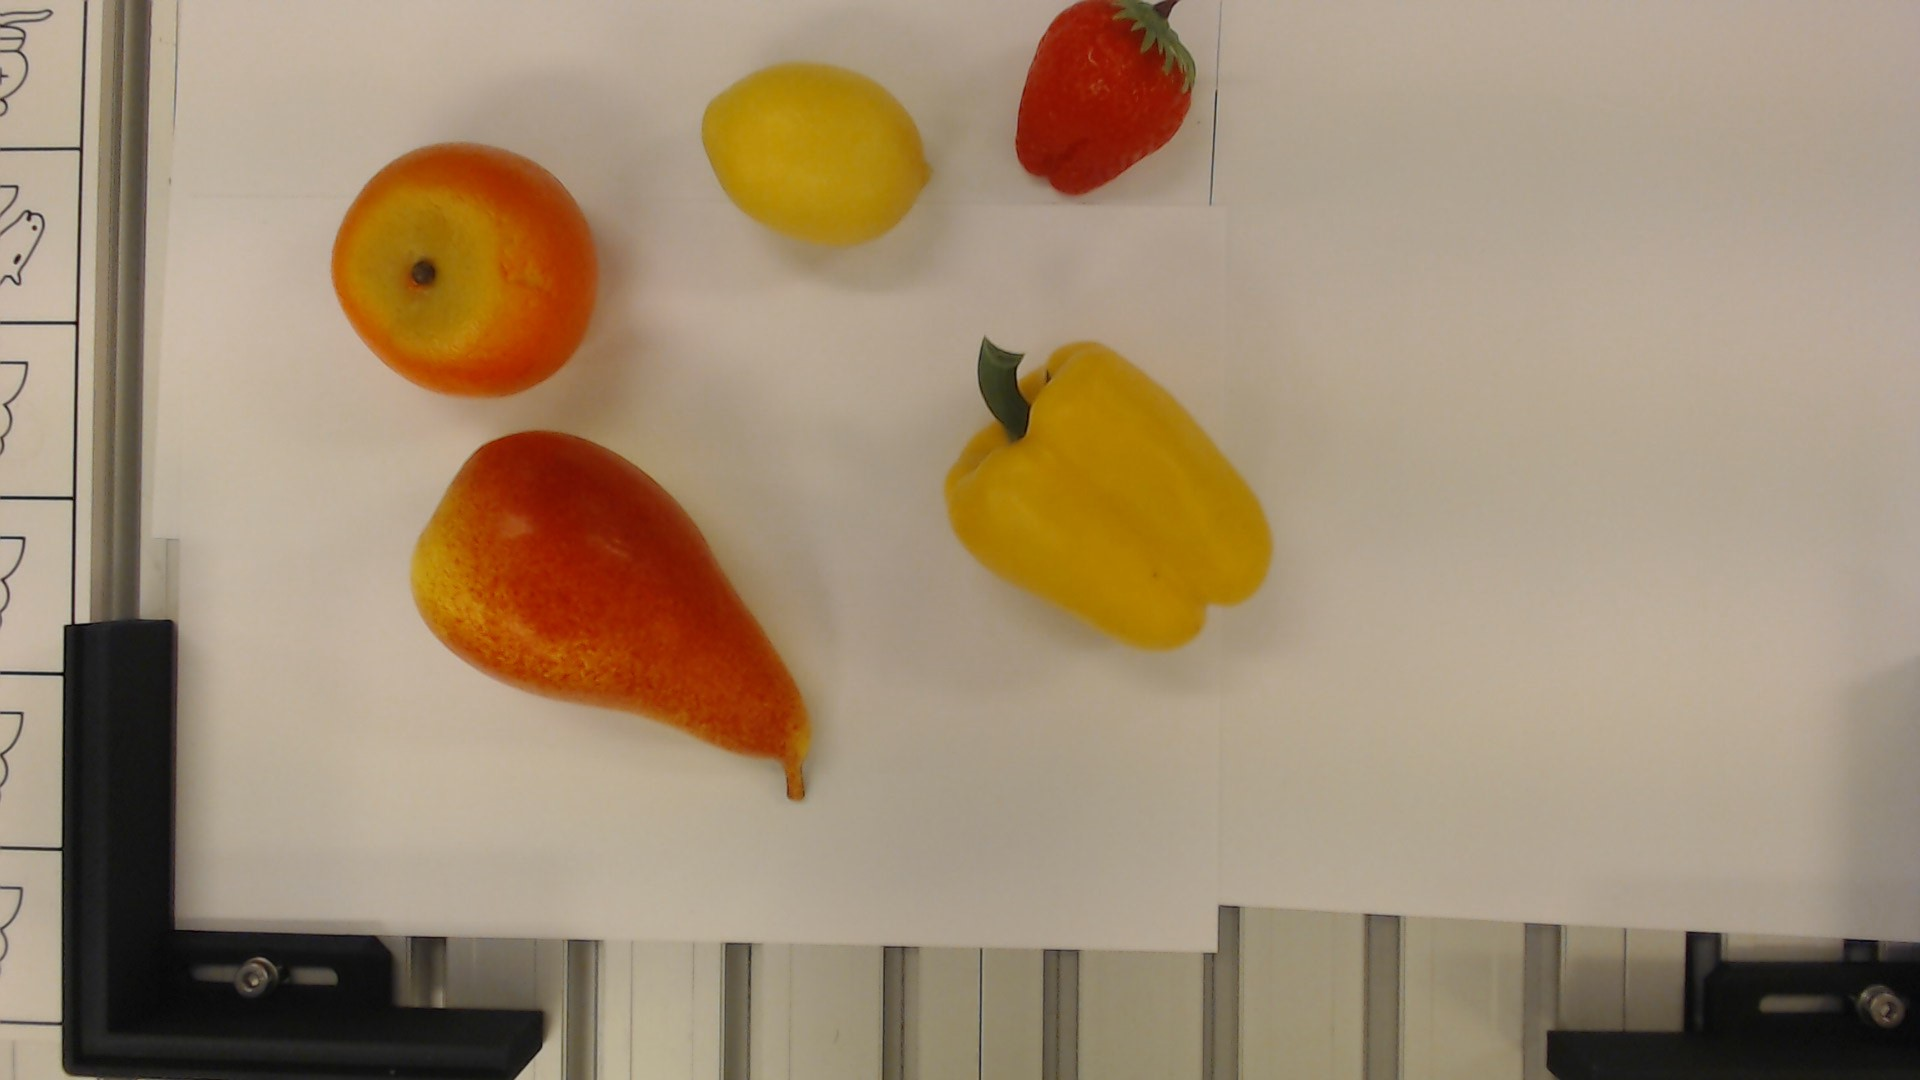Lemon: (695, 47, 943, 249)
Mandarin: (324, 136, 605, 402)
Pear: (405, 426, 820, 803)
Yellow Bell Pepper: (943, 319, 1276, 661)
